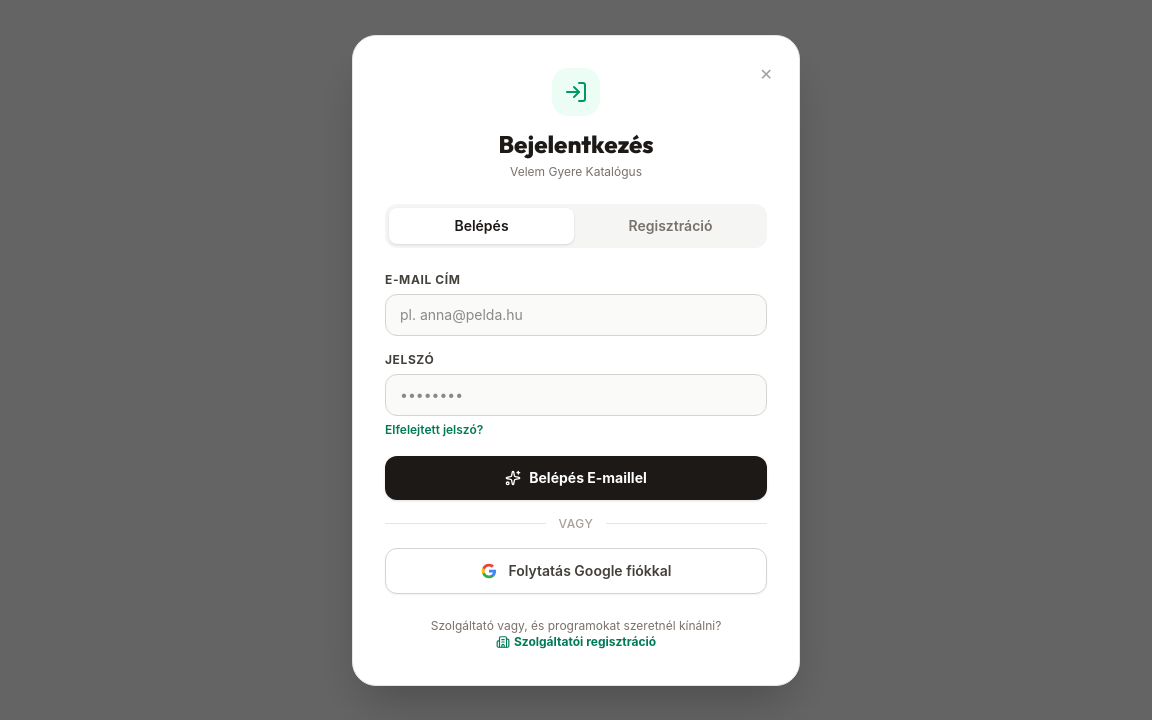
it: LoginModal -- hibauzenet megjelenitese › a login() dobott kivetelenel a general hiba-szoveget jeleniti meg, nem crashel
Type "anna@example.com" into the field with placeholder "pl. anna@pelda.hu". click: (576, 314)
box: [385,294,767,336]
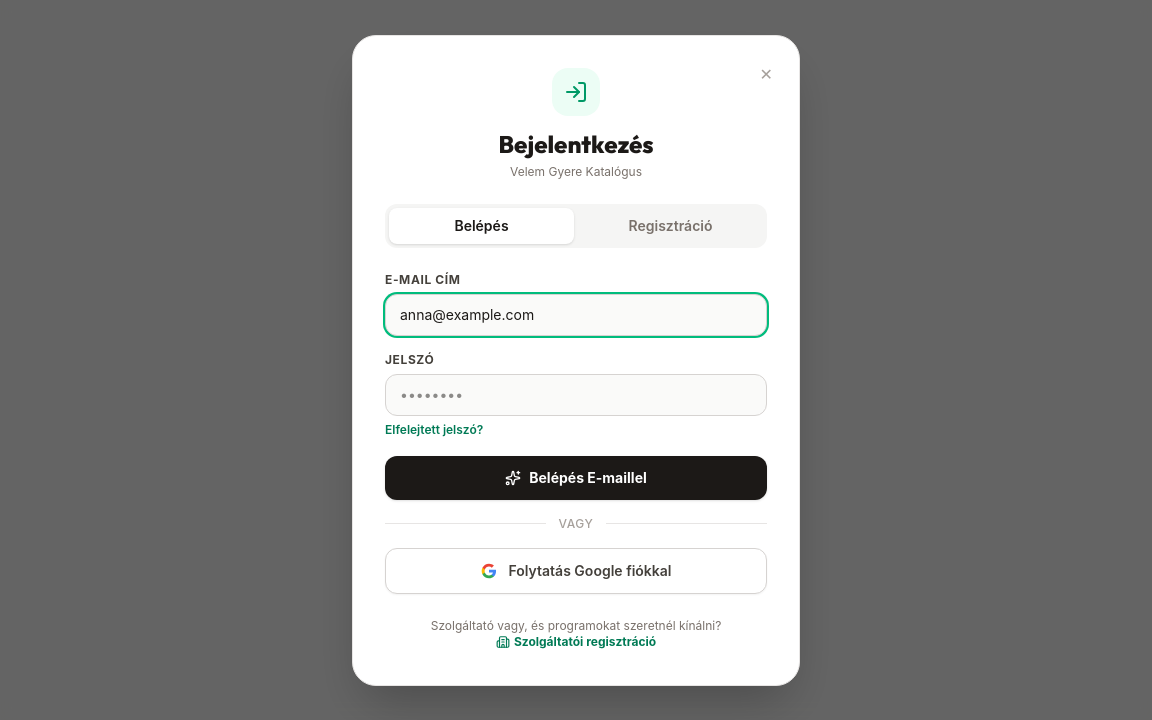
Type "valamijelszo" into the password field with placeholder "••••••••". click: (576, 394)
box: [385,374,767,416]
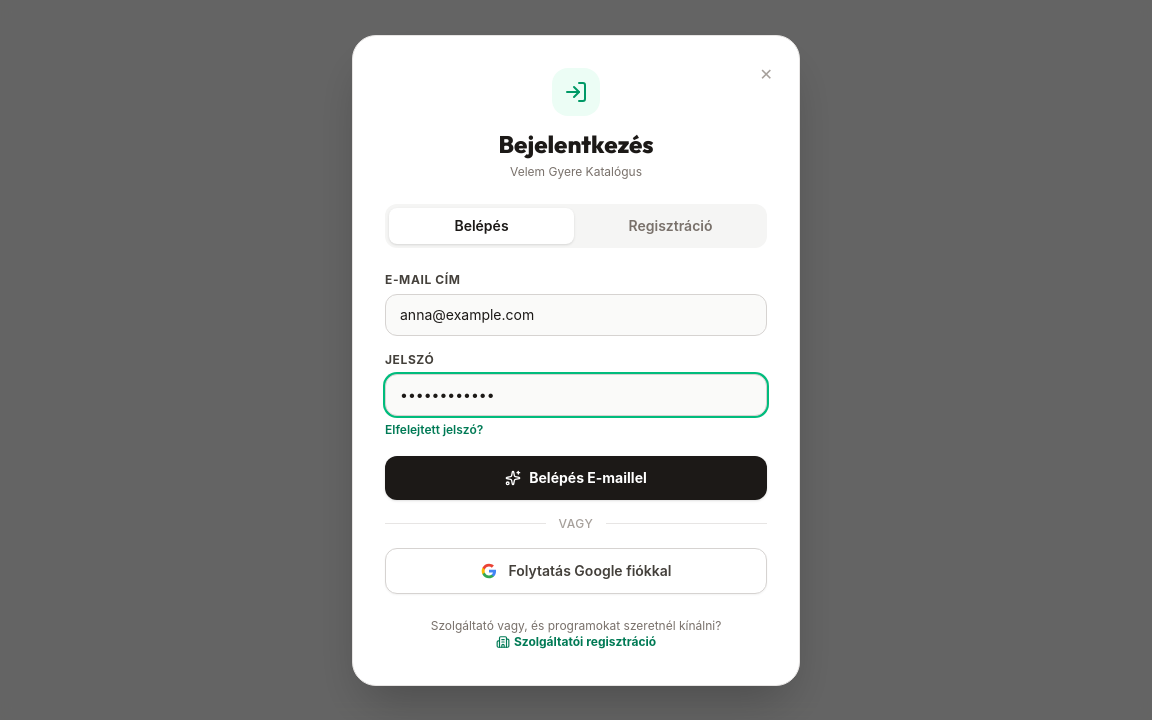
Click the button "Belépés E-maillel". click: (576, 478)
box: [385,456,767,500]
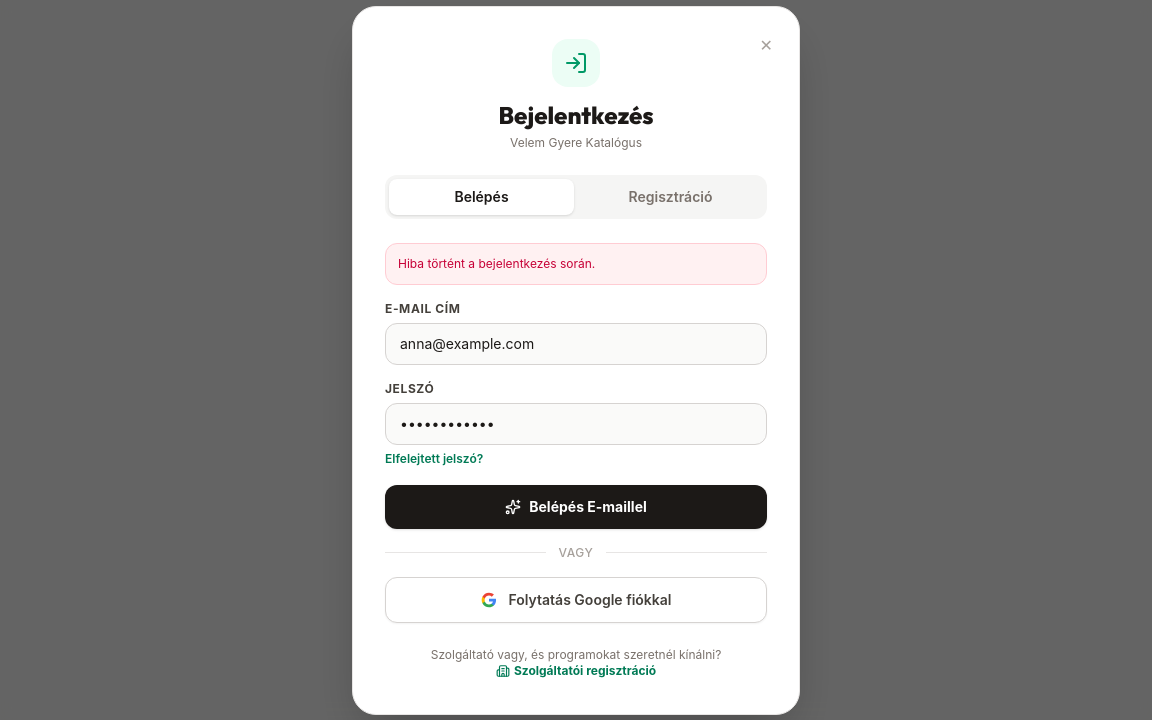
expect the text "Hiba történt a bejelentkezés során." is shown: met, box [385,242,767,284]
